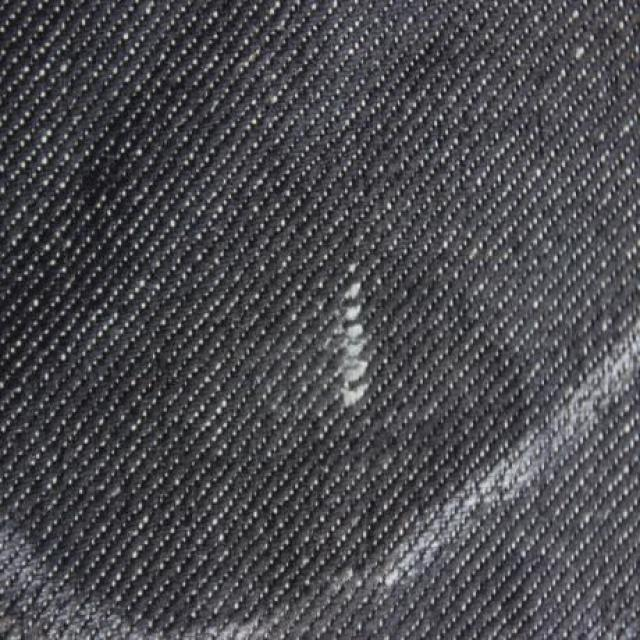stains: (288, 252, 468, 488)
